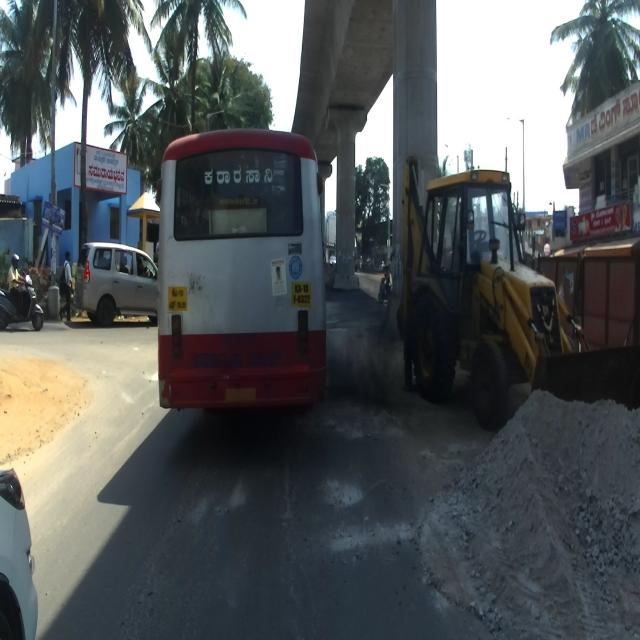bus: (156, 126, 330, 429)
car: (74, 240, 163, 327)
scooter: (0, 271, 43, 329)
